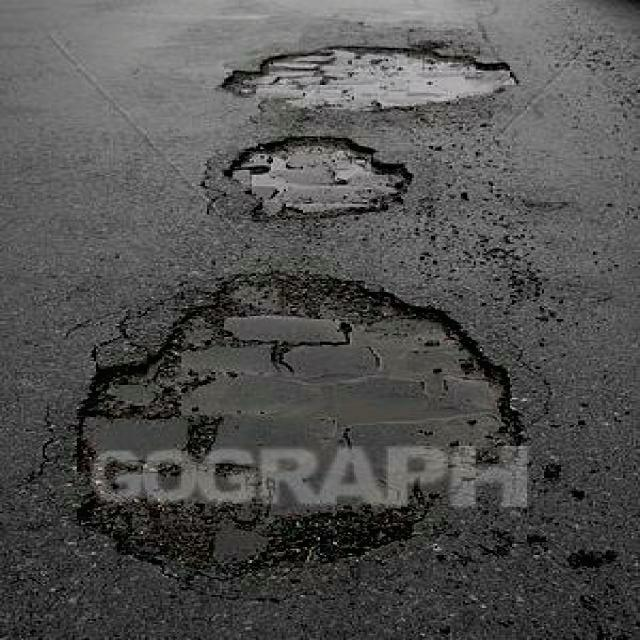Pothole: (60, 260, 527, 577), (213, 43, 518, 101), (220, 132, 416, 220)
